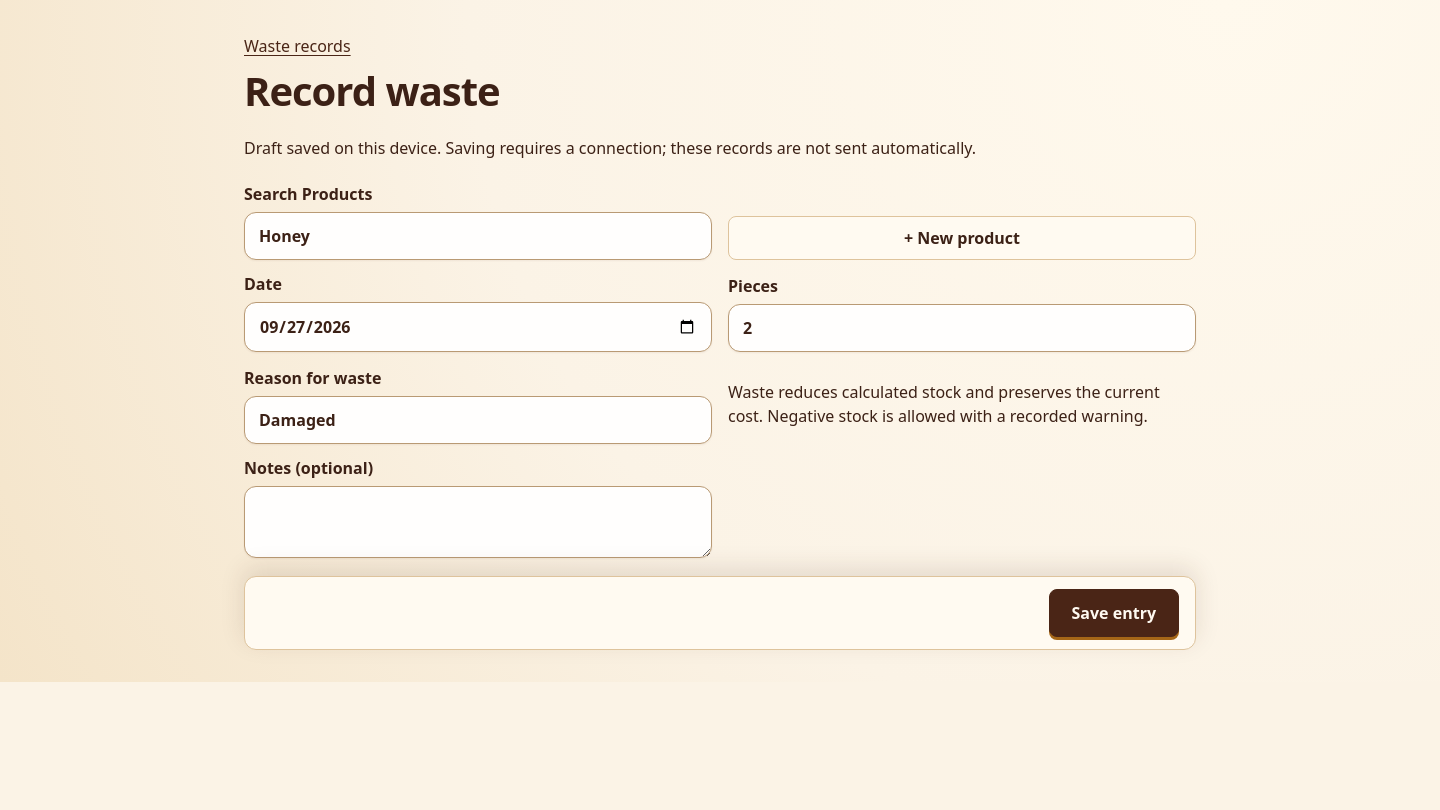
waste receipt displays negative-stock warning without inventing costs
The width and height of the screenshot is (1440, 810).
What coordinates should you click on to do the following:
click the button "Save entry"
I would click on:
 (1114, 613)
Its box is [1048, 589, 1179, 637].
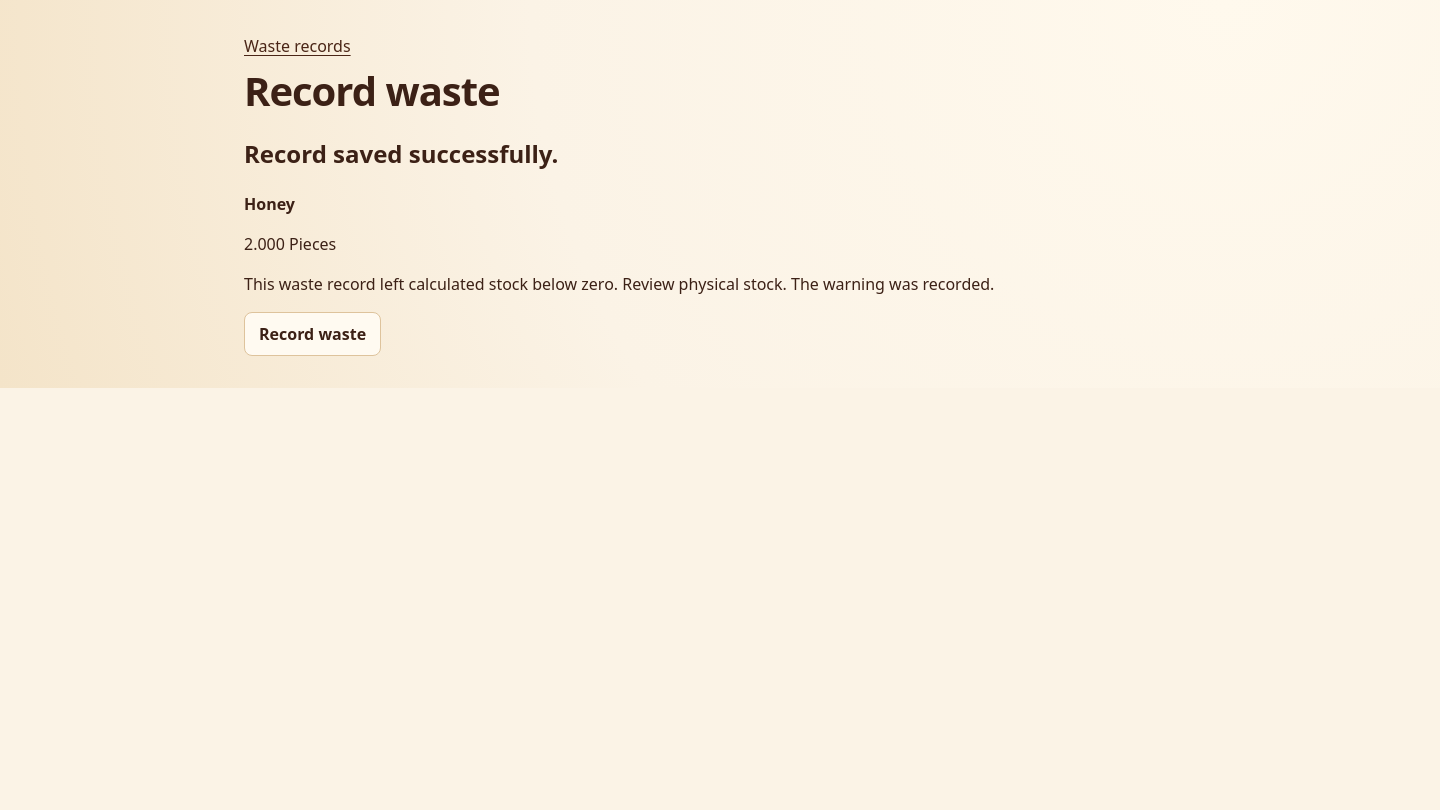
Now the message shows "calculated stock below zero", box [244, 273, 994, 295]
